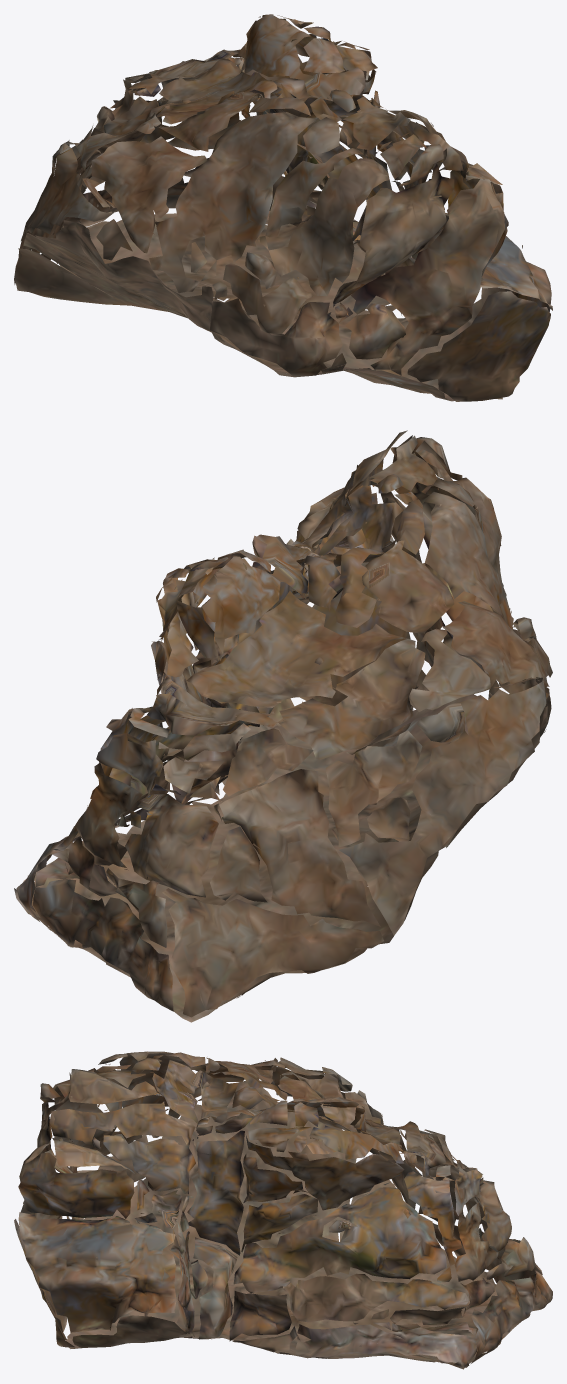
Rendered from boulder-01.glb.
3 renders of one model, top to bottom at view 1: azimuth 30°, elevation 25°; view 2: azimuth 150°, elevation 25°; view 3: azimuth 270°, elevation 25°, orthographic. The views are drawn at different scales.
Visible parts, largest first — view 1: boulder_01; view 2: boulder_01; view 3: boulder_01.
Part boxes in pixels (x1,y1,x2,y2): boulder_01: (14, 14, 552, 401); boulder_01: (14, 430, 552, 1022); boulder_01: (14, 1051, 552, 1369).
Bounding box in the file's own units: 1.26 × 0.9965 × 1.82.
1 material, 1 textured.
